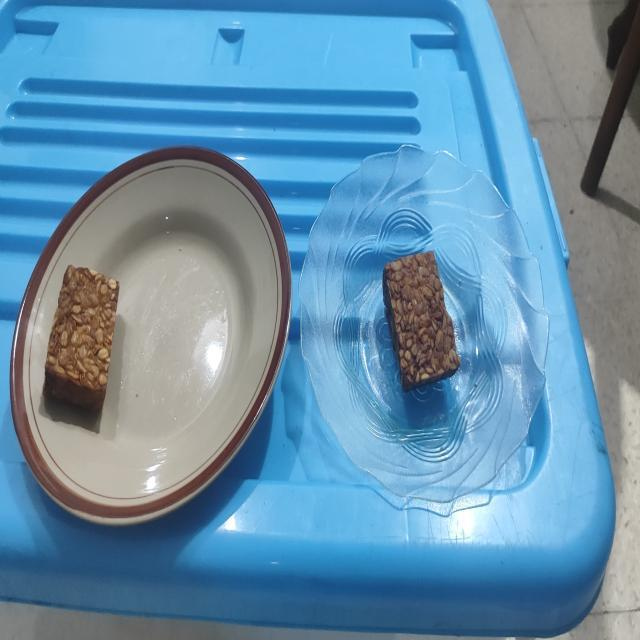tempe_goreng: (383, 250, 460, 392), (46, 266, 120, 408)
